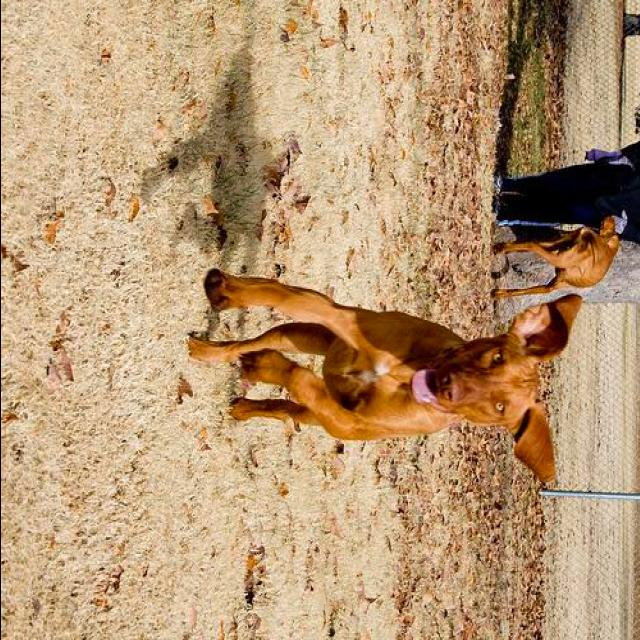vizsla: (190, 270, 580, 482), (480, 154, 638, 326)
